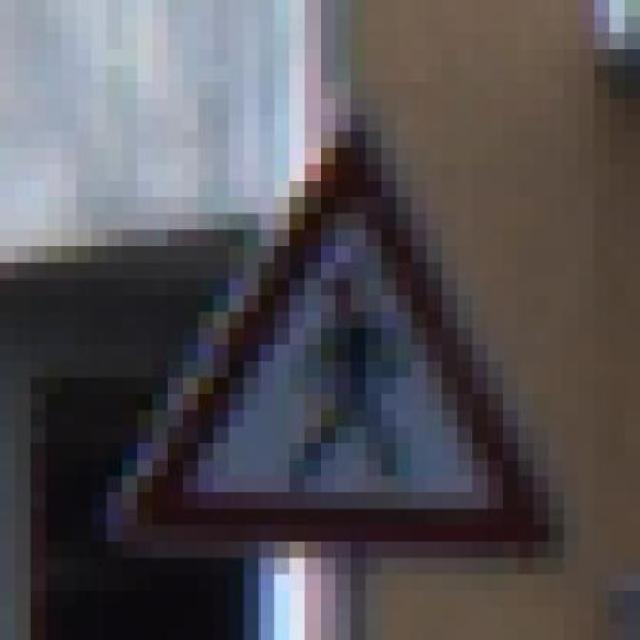Pedestrian Crossing: (122, 81, 564, 558)
